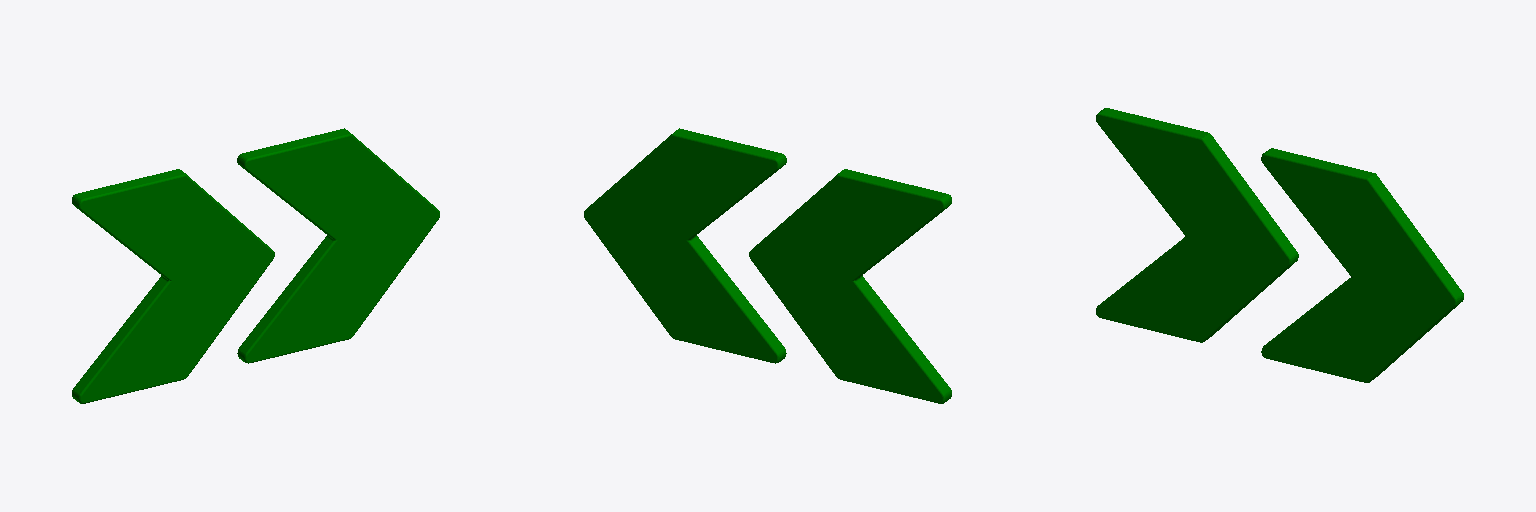
Rendered from speedboost.obj.
The picture shows the model from 3 angles: view 1: azimuth 30°, elevation 25°; view 2: azimuth 150°, elevation 25°; view 3: azimuth 330°, elevation 25°; orthographic projection.
Parts seen in each view (by area): view 1: Plane; view 2: Plane; view 3: Plane.
Boxes of the visible parts, x1,y1,x2,y2 form: Plane: [72, 128, 439, 403]; Plane: [584, 128, 951, 403]; Plane: [1096, 108, 1463, 382].
Bounding box in the file's own units: 4.94 × 2.68 × 0.2042.